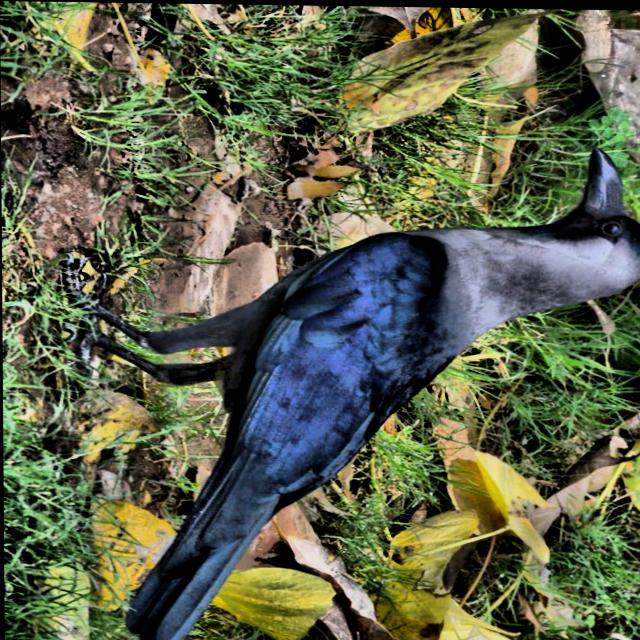crow: (76, 117, 640, 640)
